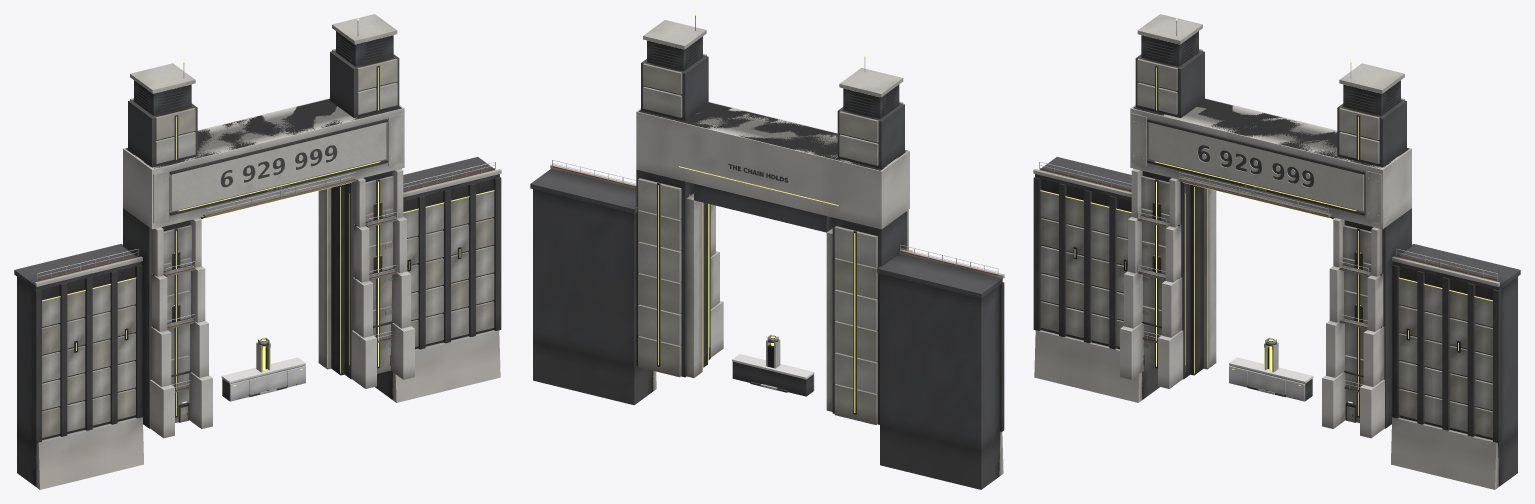
Rendered from citadel.glb.
3 renders of one model, left to right at view 1: azimuth 30°, elevation 25°; view 2: azimuth 150°, elevation 25°; view 3: azimuth 330°, elevation 25°, orthographic. The views are drawn at different scales.
Parts seen in each view (by area): view 1: citadel_gate, terrace_wall; view 2: citadel_gate, terrace_wall; view 3: citadel_gate, terrace_wall.
Part boxes in pixels (left/top/right/bottom): citadel_gate: left=14, top=14, right=501, bottom=489; terrace_wall: left=221, top=357, right=305, bottom=401; citadel_gate: left=530, top=14, right=1004, bottom=489; terrace_wall: left=732, top=354, right=814, bottom=396; citadel_gate: left=1033, top=14, right=1520, bottom=489; terrace_wall: left=1229, top=357, right=1313, bottom=401.
Size of what is drawn, in the model's own units: 73.7 by 59.68 by 11.85.
7 materials, 1 textured.
